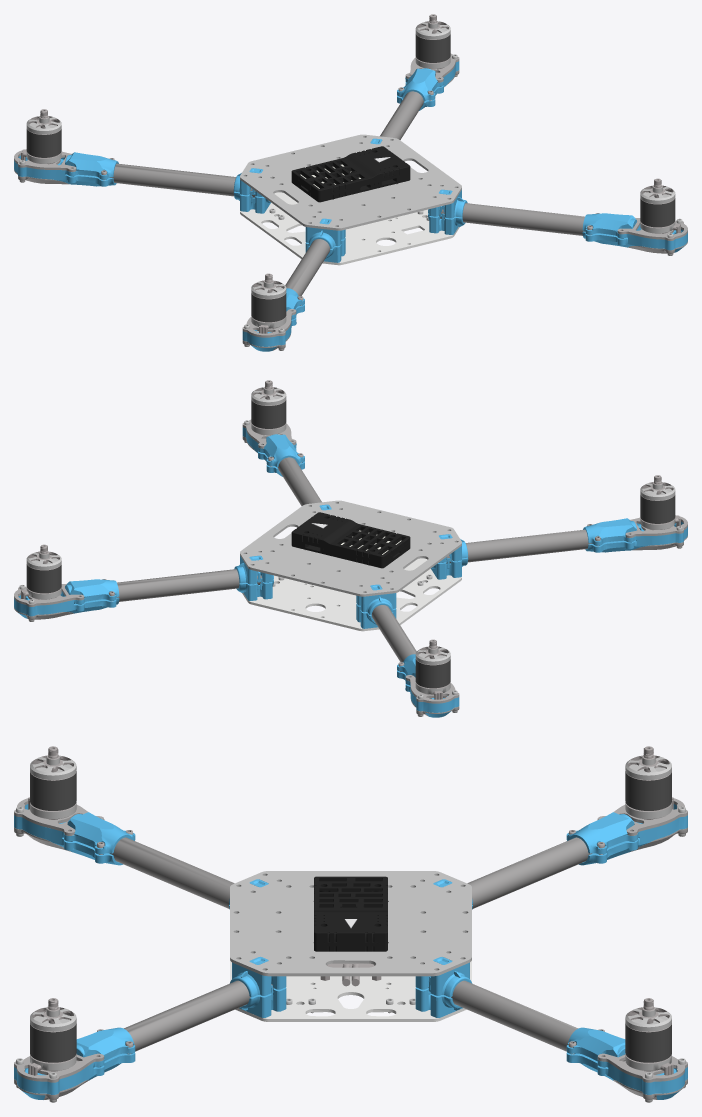
File: quad_frame.dae
3 views of the same model, one above another, from view 1: azimuth 30°, elevation 25°; view 2: azimuth 150°, elevation 25°; view 3: azimuth 270°, elevation 25° (orthographic). The views are drawn at different scales.
Visible parts, largest first — view 1: quad_frame; view 2: quad_frame; view 3: quad_frame.
Boxes of the visible parts, box(x1,y1,x2,y2) form: quad_frame: box(14, 14, 687, 351); quad_frame: box(14, 380, 687, 717); quad_frame: box(14, 746, 687, 1102).
Bounding box in the file's own units: 0.4004 × 0.4004 × 0.0675.
